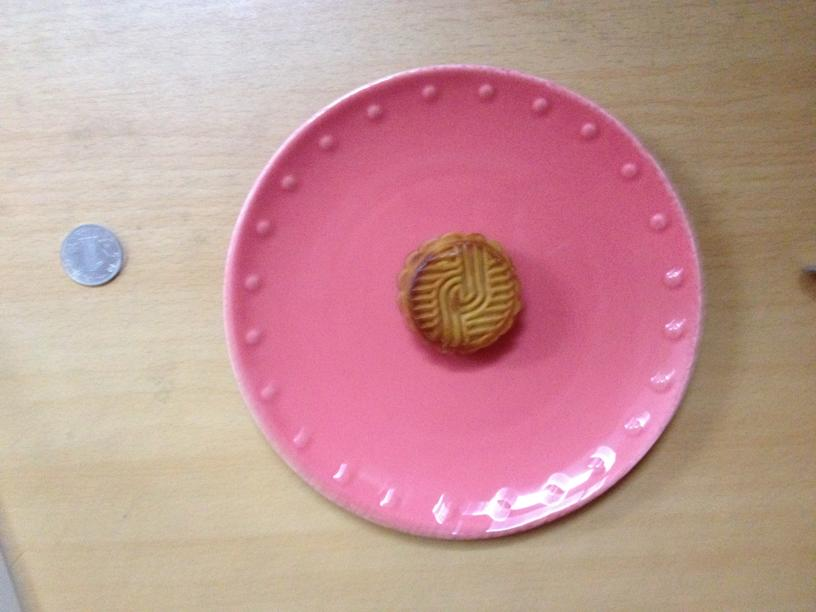coin: (60, 222, 123, 286)
mooncake: (392, 228, 524, 354)
